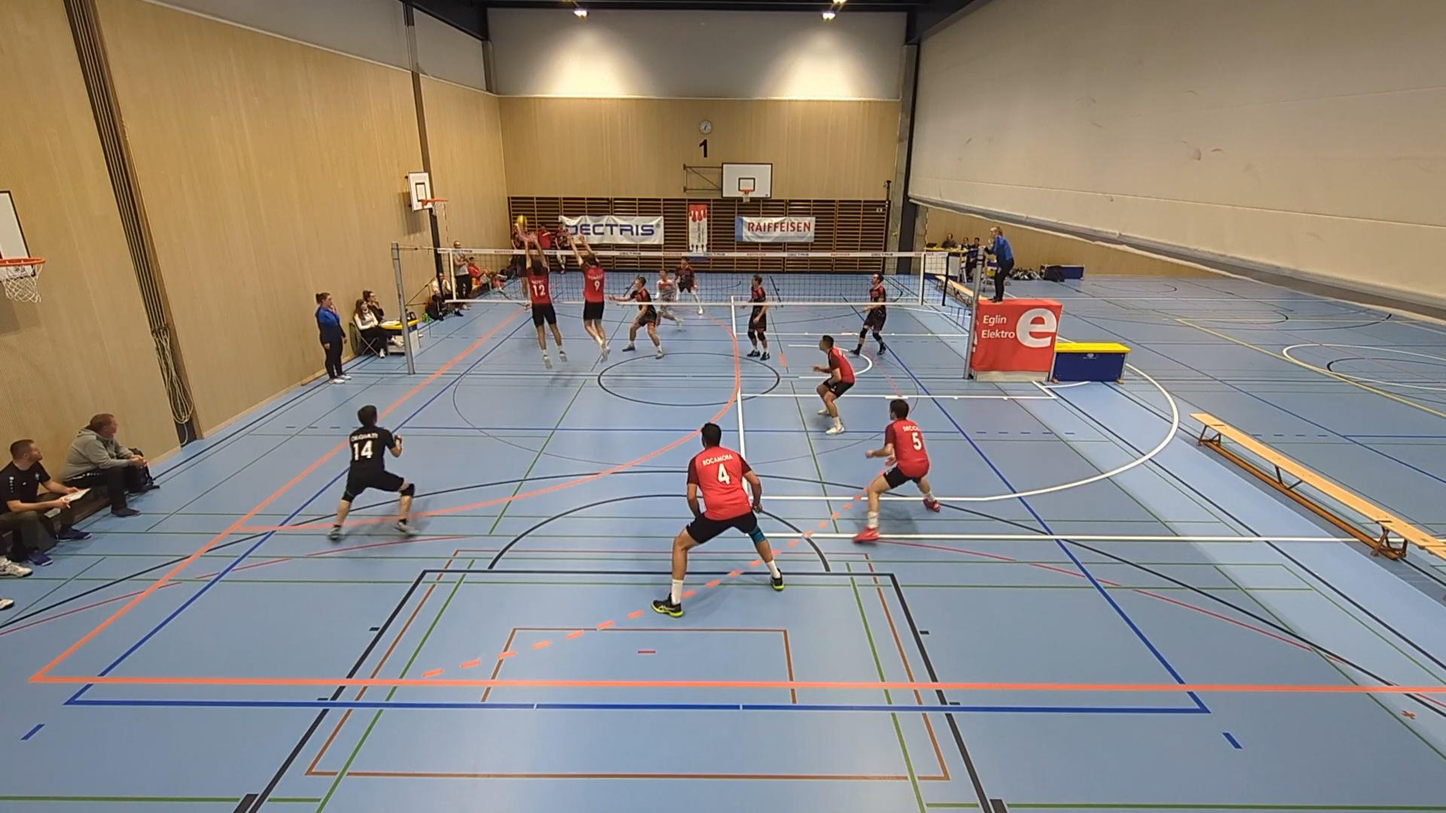Block: (522, 238, 568, 368), (568, 232, 615, 352)
Player: (653, 422, 784, 617), (854, 399, 940, 541), (328, 405, 414, 540), (611, 276, 664, 357), (813, 335, 854, 434), (852, 274, 886, 356), (746, 275, 770, 360), (676, 257, 704, 315), (657, 268, 682, 324)
ball: (513, 215, 527, 227)
